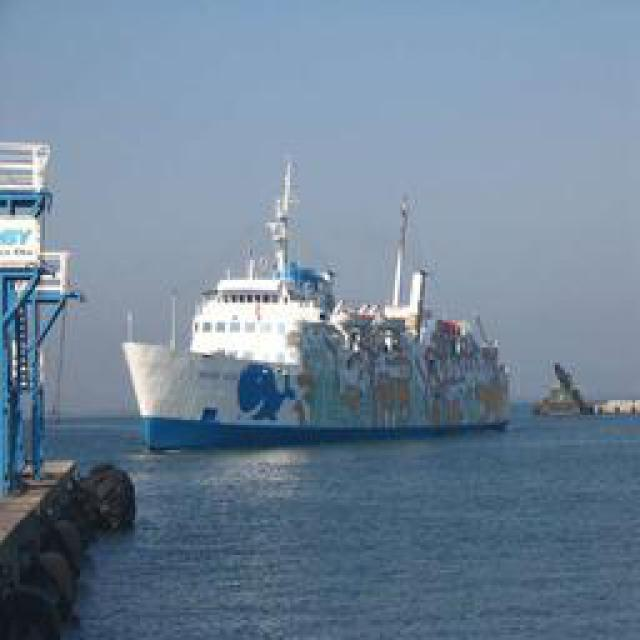Ship: (136, 157, 514, 445)
